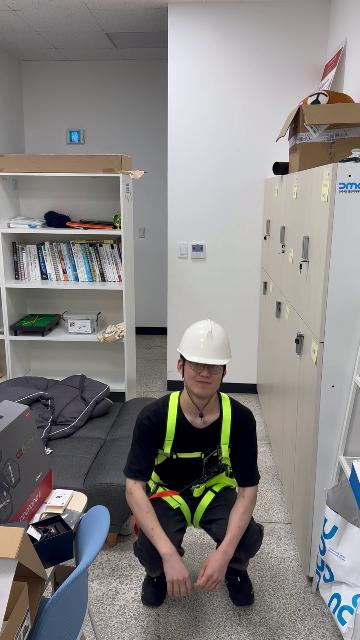helmet_worn: (176, 316, 234, 367)
shoe_worn: (219, 564, 259, 608), (141, 567, 171, 609)
vest_worn: (149, 391, 243, 528)
